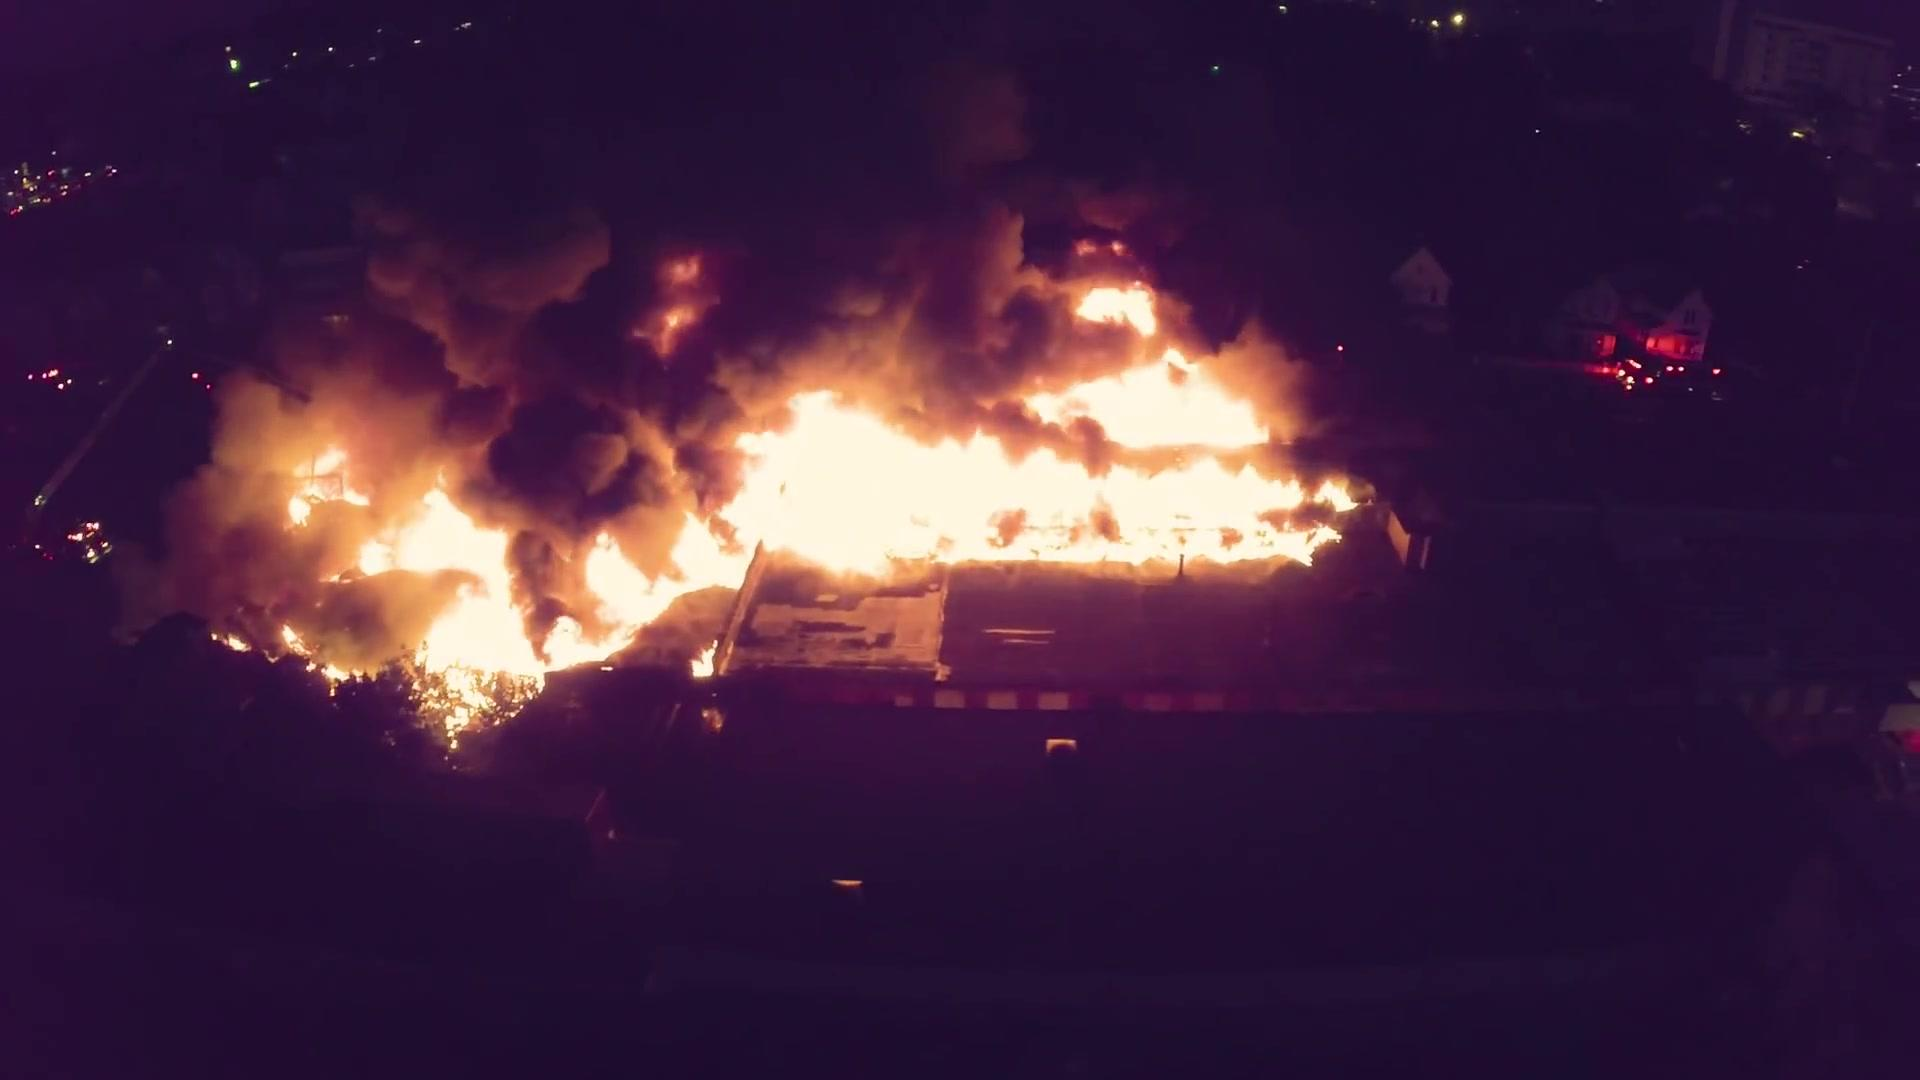fire: (138, 272, 1390, 716)
